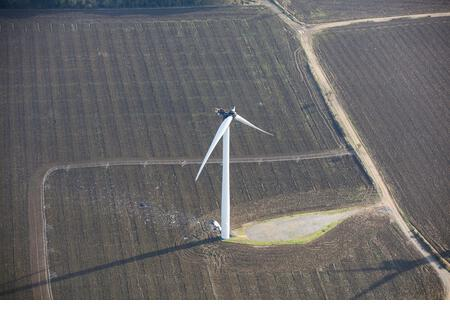faulty: (193, 103, 277, 181)
